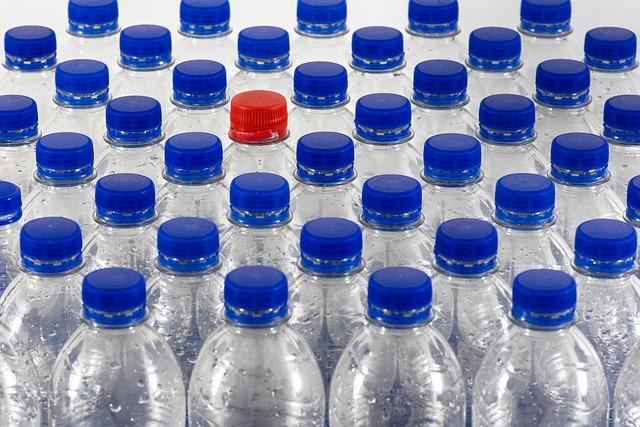Plastic: (469, 266, 615, 427), (327, 264, 470, 427), (186, 264, 328, 427), (0, 213, 88, 385), (296, 215, 368, 274), (155, 215, 226, 273), (32, 132, 99, 189), (360, 173, 427, 229), (227, 89, 293, 144), (422, 132, 486, 186)
